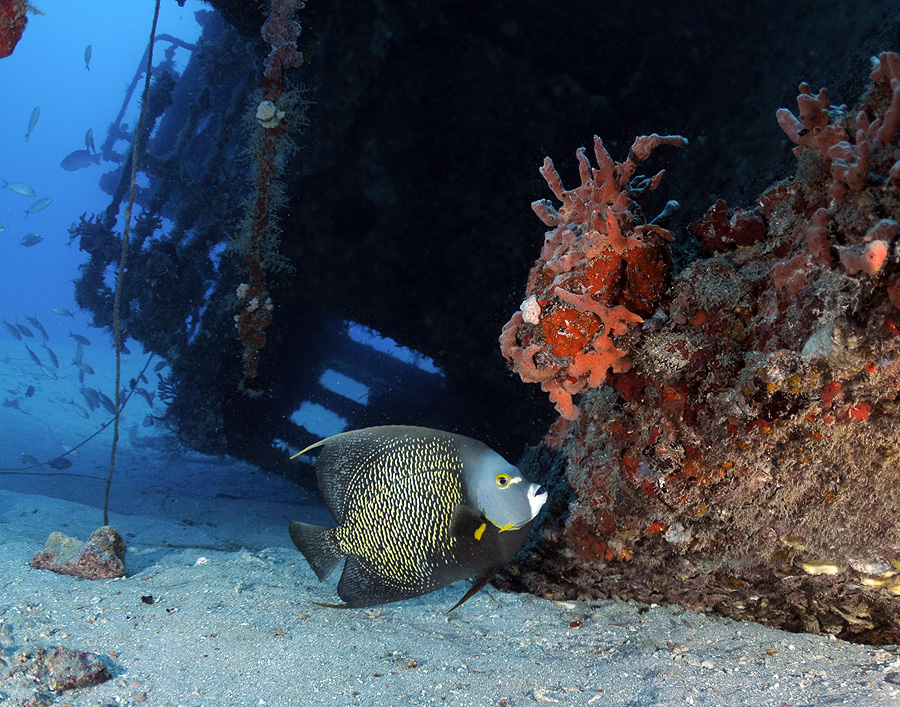Pomacanthus_paru: (264, 403, 568, 636)
